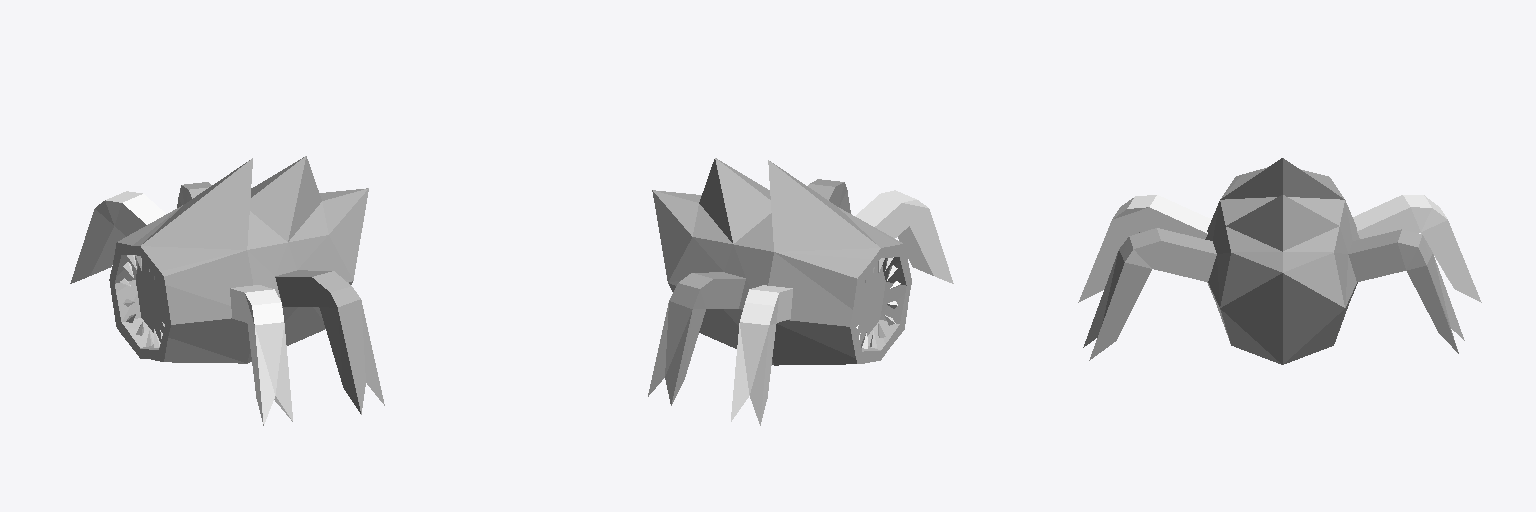
The picture shows the model from 3 angles: view 1: azimuth 30°, elevation 25°; view 2: azimuth 150°, elevation 25°; view 3: azimuth 270°, elevation 25°; orthographic projection.
Visible parts, largest first — view 1: 立方体, 立方体.001, 円錐.007; view 2: 立方体, 立方体.001, 円錐.007; view 3: 立方体, 立方体.001.
Boxes of the visible parts, <box> form: 立方体: <box>109,156,384,414</box>; 立方体.001: <box>70,191,292,425</box>; 円錐.007: <box>120,255,164,347</box>; 立方体: <box>648,158,911,405</box>; 立方体.001: <box>731,190,953,425</box>; 円錐.007: <box>856,257,900,348</box>; 立方体: <box>1083,158,1464,364</box>; 立方体.001: <box>1078,195,1481,302</box>.
Bounding box in the file's own units: 2.57 × 2.1 × 3.93.
Materials: 2 (1 with a texture image).